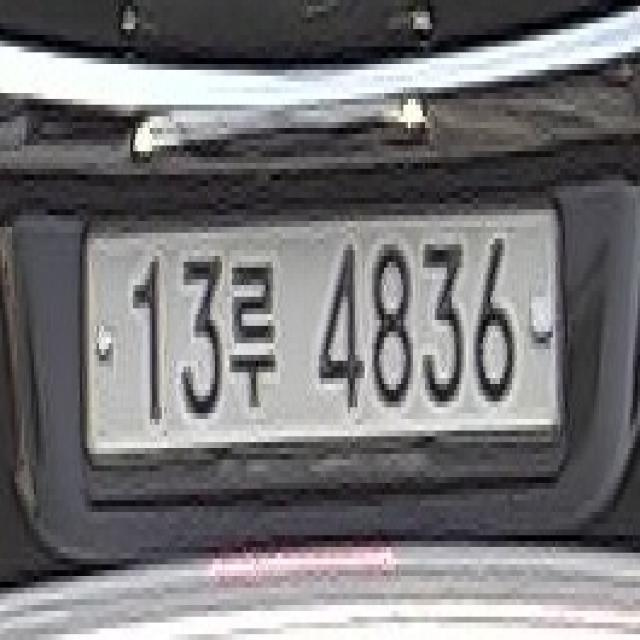1: (128, 234, 168, 442)
3: (420, 233, 468, 414), (176, 253, 224, 424)
4: (317, 232, 365, 424)
6: (471, 227, 519, 418)
8: (372, 231, 413, 412)
license_plate: (66, 201, 566, 473)
lu: (226, 244, 287, 418)
